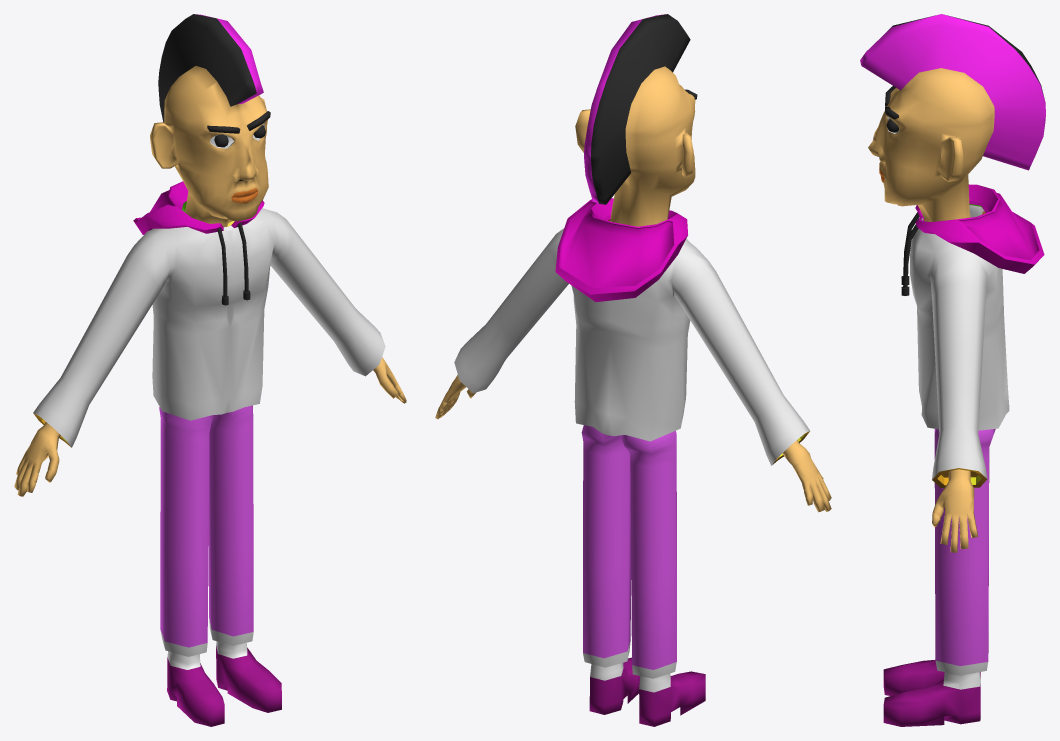
The model's file is Male_5.fbx.
3 views of the same model, side by side, from view 1: azimuth 30°, elevation 25°; view 2: azimuth 150°, elevation 25°; view 3: azimuth 270°, elevation 25° (orthographic).
Parts seen in each view (by area): view 1: Male_5; view 2: Male_5; view 3: Male_5.
Part boxes in pixels (left/top/right/bottom): Male_5: left=14, top=14, right=406, bottom=726; Male_5: left=435, top=14, right=831, bottom=726; Male_5: left=860, top=14, right=1045, bottom=726.
Size of the model in its own units: 114 by 192 by 46.81.
Materials: 1 (1 with a texture image).
